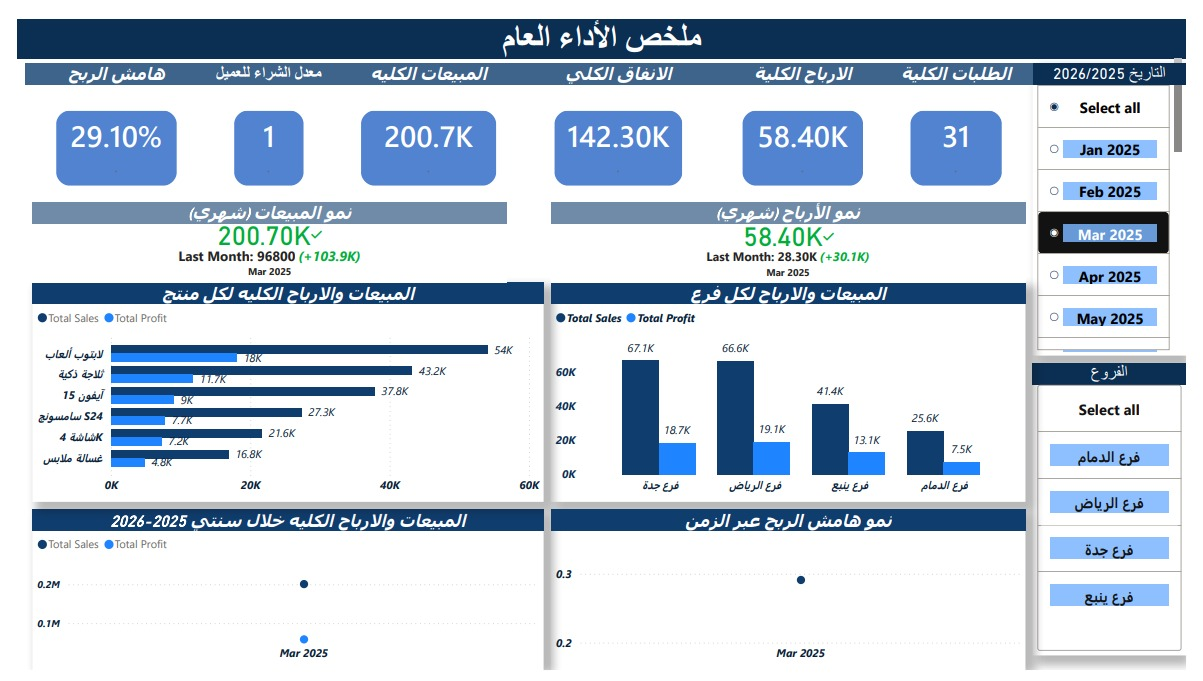

This screenshot's page, from the dashboard's own definition file:
{"tool":"powerbi","page":{"name":"Executive Summary","canvas":[1280,720],"ordinal":0},"visuals":[{"type":"textbox","title":"ملخص الأداء العام","box":[0,8,1280,56],"z":0},{"type":"advancedSlicerVisual","title":"التاريخ 2026/2025","fields":{"Values":["Calendar.Month Year"]},"box":[1112,56,168,320],"z":1000},{"type":"advancedSlicerVisual","title":"الفروع","fields":{"Values":["Branches.BranchName"]},"box":[1112,384,168,320],"z":2000},{"type":"lineChart","title":"المبيعات والارباح الكليه خلال سنتي  2025-2026","fields":{"Y":["Orders.Total Sales","Orders.Total Profit"],"Category":["Calendar.Month Year"]},"box":[16,544,560,176],"z":3000},{"type":"clusteredBarChart","title":"المبيعات والارباح الكليه لكل منتج","fields":{"Category":["Products.ProductName"],"Y":["Orders.Total Sales","Orders.Total Profit"]},"box":[16,296,560,240],"z":4000},{"type":"clusteredColumnChart","title":"المبيعات والارباح لكل فرع","fields":{"Category":["Branches.BranchName"],"Y":["Orders.Total Sales","Orders.Total Profit"]},"box":[584,296,520,240],"z":5000},{"type":"lineChart","title":"نمو هامش الربح عبر الزمن","fields":{"Category":["Calendar.Month Year"],"Y":["Orders.Profit Margin%"]},"box":[584,544,520,176],"z":6000},{"type":"cardVisual","title":"الطلبات الكلية","fields":{"Data":["Orders.Total Orders"]},"box":[944,56,168,168],"z":7000},{"type":"cardVisual","title":"المبيعات الكليه","fields":{"Data":["Orders.Total Sales"]},"box":[342.4,56,216,168],"z":8000},{"type":"cardVisual","title":"الانفاق الكلي","fields":{"Data":["Orders.Total Cost"]},"box":[553.6,56,208,168],"z":9000},{"type":"cardVisual","title":"الارباح الكلية","fields":{"Data":["Orders.Total Profit"]},"box":[760,56,200,168],"z":10000},{"type":"cardVisual","title":"هامش الربح","fields":{"Data":["Orders.Profit Margin%"]},"box":[8,56,200,168],"z":11000},{"type":"cardVisual","title":"معدل الشراء للعميل","fields":{"Data":["Orders.Avg Orders Per Customer"]},"box":[203.2,56,144,168],"z":12000},{"type":"kpi","title":"نمو الأرباح (شهري)","fields":{"TrendLine":["Calendar.Month Year"],"Indicator":["Orders.Total Profit"],"Goal":["Orders.Profit Last Month"]},"box":[584,208,520,88],"z":13000},{"type":"kpi","title":"نمو المبيعات (شهري)","fields":{"Goal":["Orders.Sales Last Month"],"Indicator":["Orders.Total Sales"],"TrendLine":["Calendar.Month Year"]},"box":[16,208,520,88],"z":14000}]}

Visuals, with their boxes in screenshot pixels (x1, y1, x2, y2), scaled from the page's 1280x720 canvas onto the 1203x681 screenshot:
"ملخص الأداء العام" textbox: select_region(0, 8, 1202, 61)
"التاريخ 2026/2025" advancedSlicerVisual: select_region(1045, 53, 1202, 356)
"الفروع" advancedSlicerVisual: select_region(1045, 363, 1202, 666)
"المبيعات والارباح الكليه خلال سنتي  2025-2026" lineChart: select_region(15, 515, 541, 680)
"المبيعات والارباح الكليه لكل منتج" clusteredBarChart: select_region(15, 280, 541, 507)
"المبيعات والارباح لكل فرع" clusteredColumnChart: select_region(549, 280, 1038, 507)
"نمو هامش الربح عبر الزمن" lineChart: select_region(549, 515, 1038, 680)
"الطلبات الكلية" cardVisual: select_region(887, 53, 1045, 212)
"المبيعات الكليه" cardVisual: select_region(322, 53, 525, 212)
"الانفاق الكلي" cardVisual: select_region(520, 53, 716, 212)
"الارباح الكلية" cardVisual: select_region(714, 53, 902, 212)
"هامش الربح" cardVisual: select_region(8, 53, 195, 212)
"معدل الشراء للعميل" cardVisual: select_region(191, 53, 326, 212)
"نمو الأرباح (شهري)" kpi: select_region(549, 197, 1038, 280)
"نمو المبيعات (شهري)" kpi: select_region(15, 197, 504, 280)
